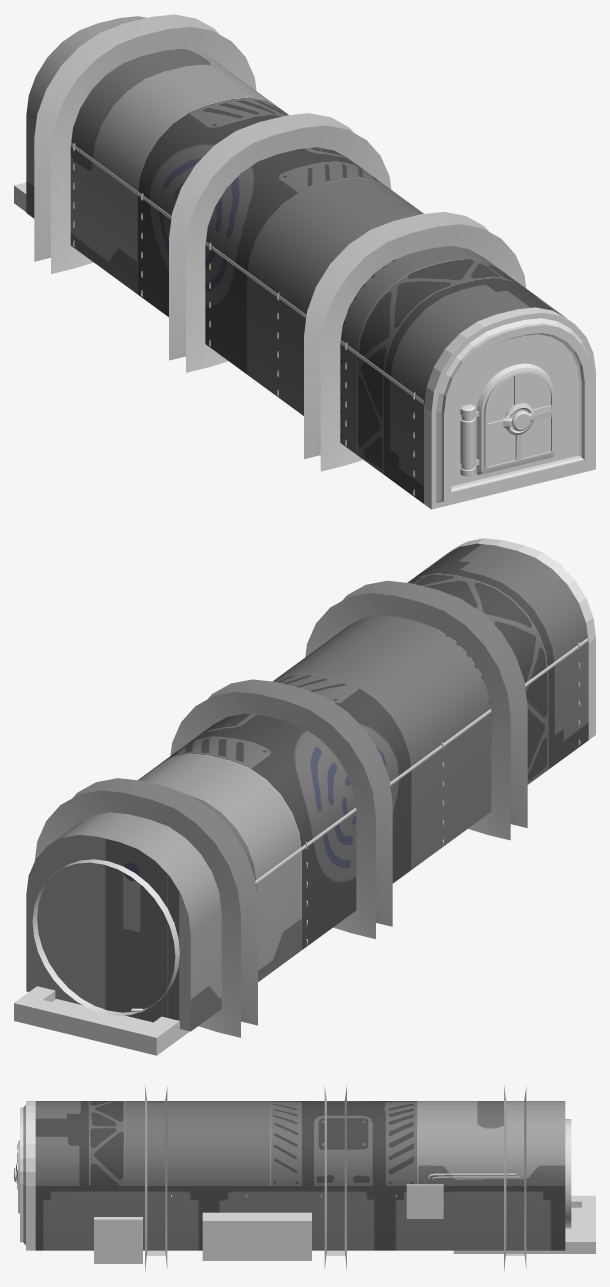
Rendered from EngineRoom.fbx.
3 views of the same model, one above another, from view 1: azimuth 30°, elevation 25°; view 2: azimuth 150°, elevation 25°; view 3: azimuth 270°, elevation 25° (orthographic). The views are drawn at different scales.
Visible parts, largest first — view 1: Walls, Archs, Door, Door.001, Cylinder; view 2: Walls, Archs, EngineBase, Door, Engine, Cylinder; view 3: Walls, Cube.002, Archs, Door, TrimBox, EngineBase, TrimBox2, Engine, WiresWall.
Part boxes in pixels (left/top/right/bottom): Walls: left=26, top=16, right=565, bottom=503; Archs: left=34, top=14, right=526, bottom=471; Door: left=424, top=307, right=595, bottom=509; Door.001: left=460, top=363, right=554, bottom=477; Cylinder: left=70, top=142, right=423, bottom=404; Walls: left=26, top=543, right=588, bottom=1031; Archs: left=34, top=580, right=527, bottom=1037; EngineBase: left=14, top=986, right=189, bottom=1055; Door: left=446, top=538, right=595, bottom=739; Engine: left=32, top=859, right=179, bottom=1015; Cylinder: left=255, top=638, right=587, bottom=884; Walls: left=35, top=1101, right=565, bottom=1250; Cube.002: left=202, top=1212, right=311, bottom=1260; Archs: left=145, top=1085, right=526, bottom=1271; Door: left=20, top=1101, right=35, bottom=1250; TrimBox: left=94, top=1217, right=142, bottom=1263; EngineBase: left=453, top=1195, right=595, bottom=1253; TrimBox2: left=406, top=1184, right=443, bottom=1218; Engine: left=565, top=1119, right=571, bottom=1228; WiresWall: left=428, top=1173, right=519, bottom=1179.
Size of the model in its own units: 297 by 290 by 1061.
